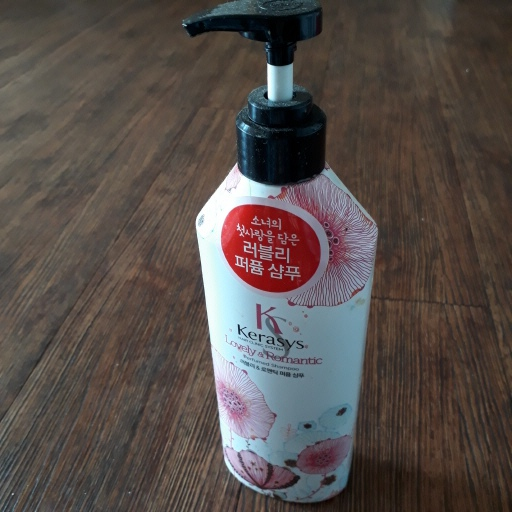Plastic_3: (182, 1, 380, 503)
